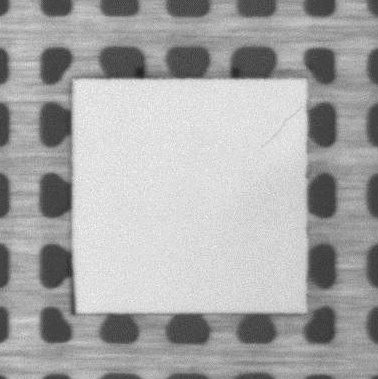DIE_CRACK: (261, 103, 304, 146)
